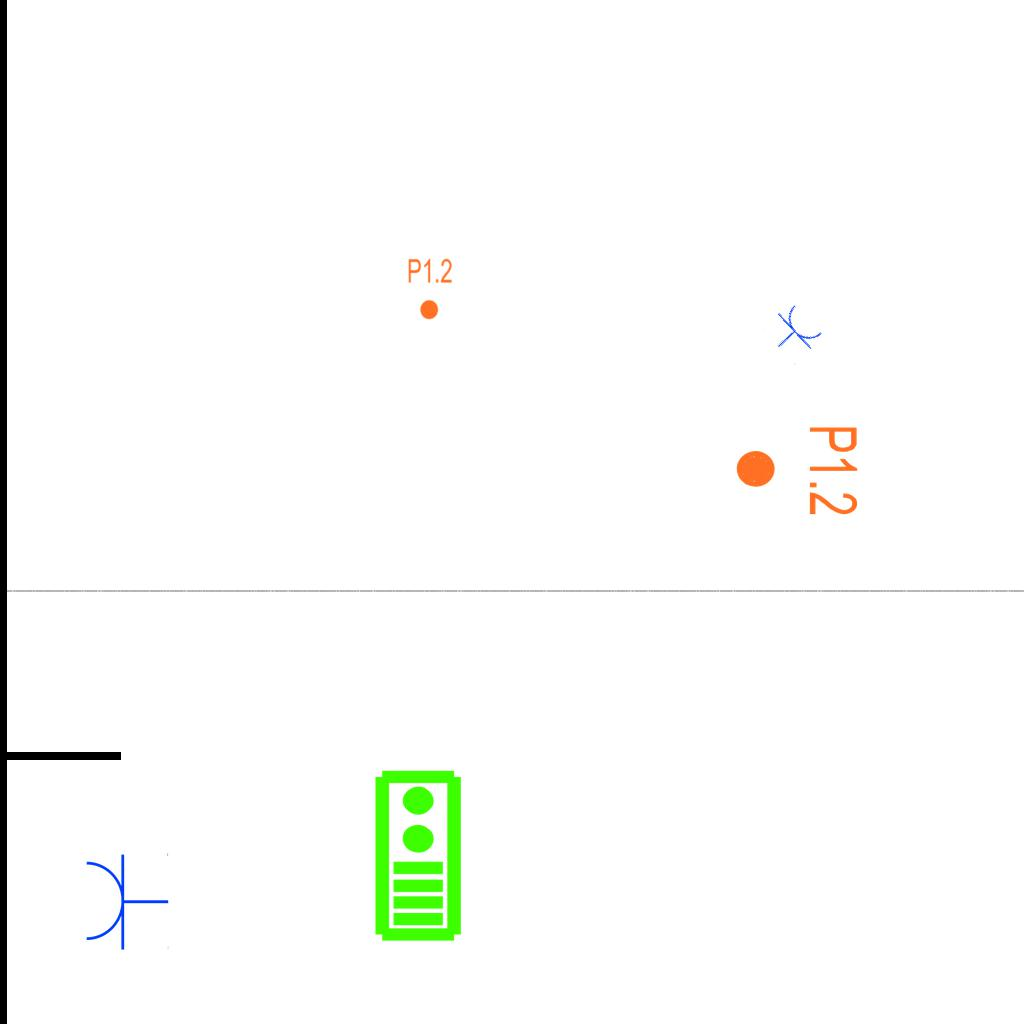Downlight_LED_Einbauleuchten_Flur: (733, 424, 861, 517), (407, 257, 453, 321)
Gegensprechanlage_mit_Video: (369, 767, 464, 943)
Schukosteckdose_einfach: (82, 851, 169, 951), (761, 299, 827, 366)
